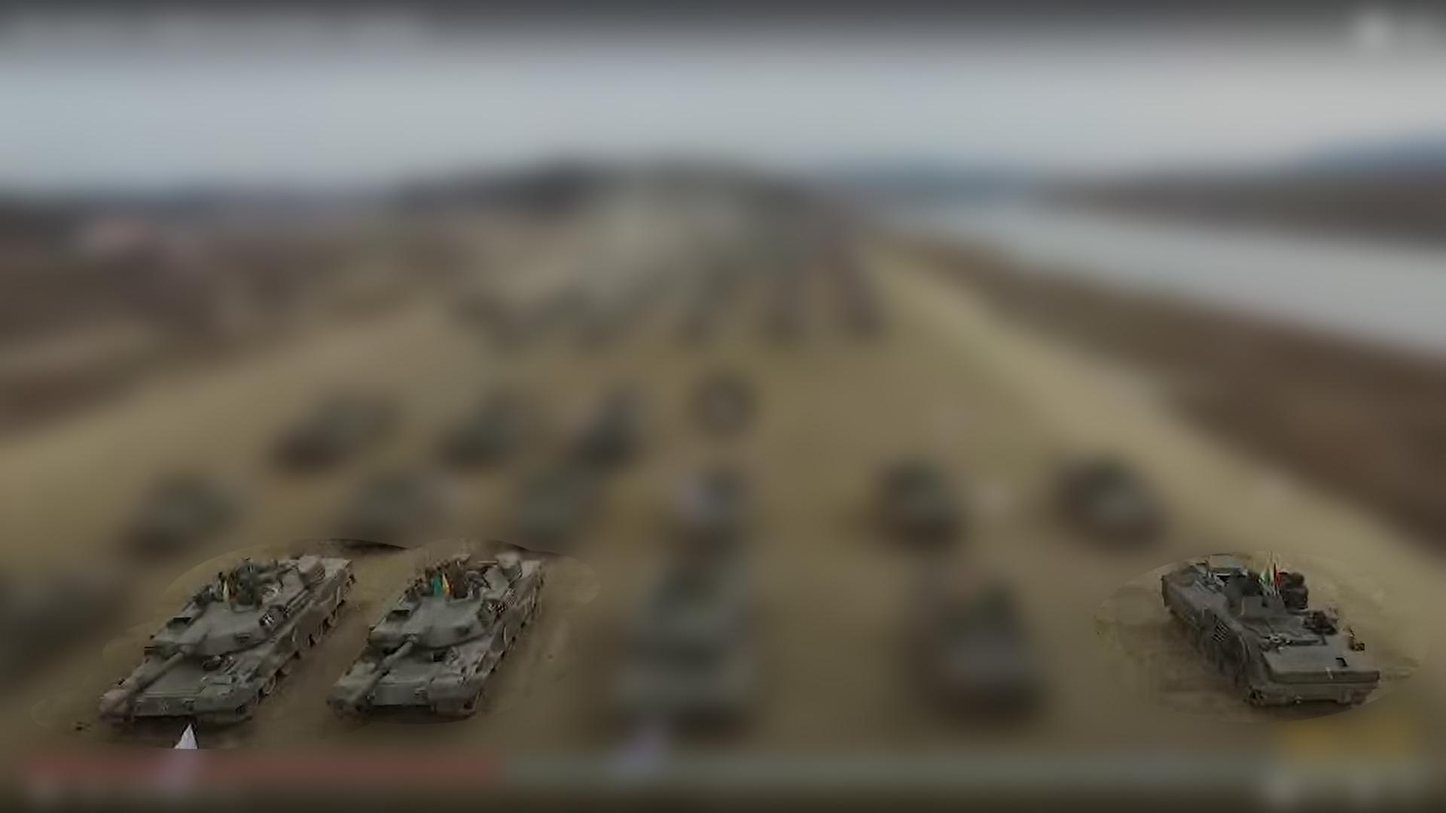armored_car: (1129, 551, 1416, 712)
tank: (97, 542, 353, 734), (337, 556, 553, 727)
